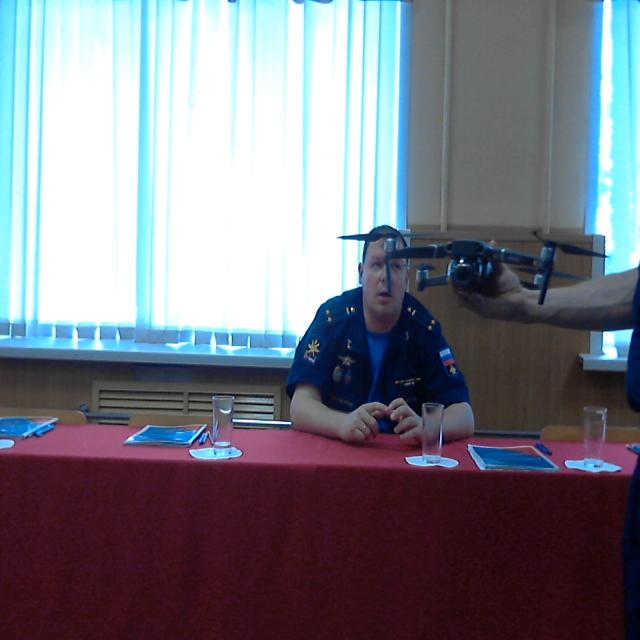drone: (353, 200, 591, 317)
